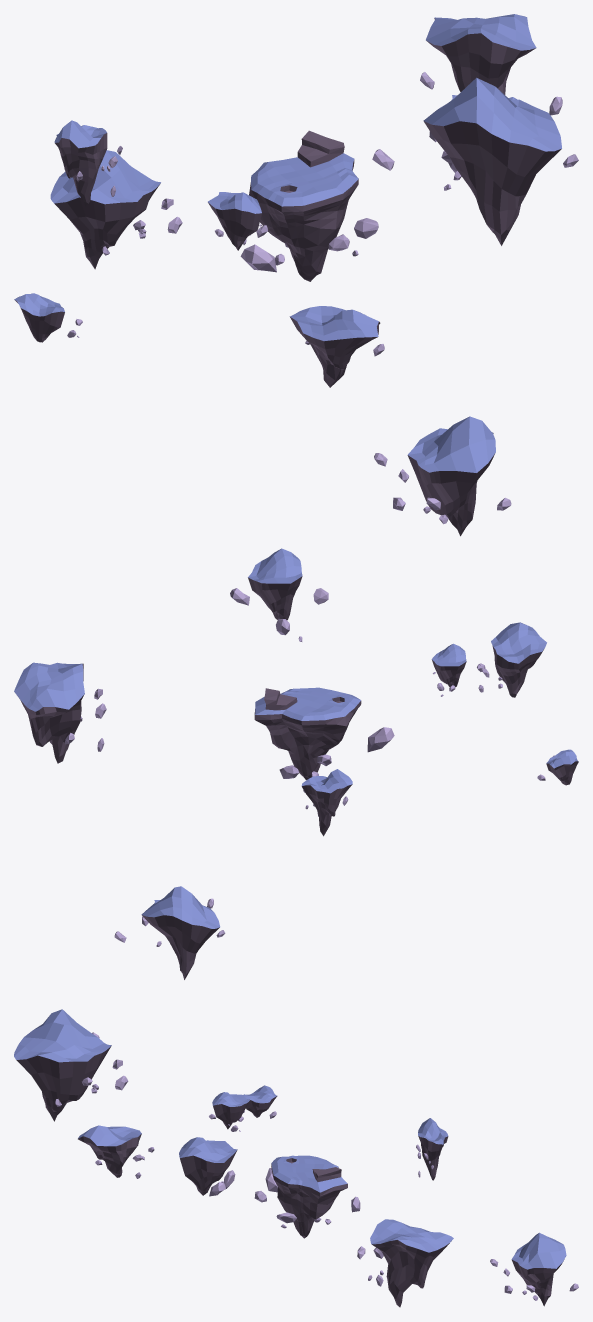
File: imaginationland.fbx
3 views of the same model, one above another, from view 1: azimuth 30°, elevation 25°; view 2: azimuth 150°, elevation 25°; view 3: azimuth 270°, elevation 25° (orthographic). The views are drawn at different scales.
Parts seen in each view (by area): view 1: Plane005, Plane001, Plane009, Plane008, Plane003, Plane007, Plane002, Plane006, GeoSphere004; view 2: Plane005, Plane001, Plane008, Plane009, Plane004, Plane003, Plane007, Plane002, Plane006; view 3: Plane005, Plane001, Plane008, Plane009, Plane004, Plane003, Plane007, Plane002, Plane006.
Part boxes in pixels (x1,y1,x2,y2): Plane005: [423, 77, 561, 245]; Plane001: [249, 130, 358, 281]; Plane009: [50, 150, 160, 269]; Plane008: [426, 14, 536, 94]; Plane003: [289, 306, 380, 387]; Plane007: [54, 120, 107, 206]; Plane002: [208, 192, 261, 250]; Plane006: [14, 293, 64, 342]; GeoSphere004: [240, 244, 276, 272]; Plane005: [407, 416, 495, 536]; Plane001: [254, 687, 361, 779]; Plane008: [14, 662, 84, 763]; Plane009: [141, 886, 220, 979]; Plane004: [248, 548, 302, 620]; Plane003: [491, 622, 546, 697]; Plane007: [301, 769, 352, 836]; Plane002: [431, 643, 466, 687]; Plane006: [546, 749, 578, 785]; Plane005: [14, 1009, 111, 1121]; Plane001: [271, 1155, 347, 1238]; Plane008: [370, 1219, 453, 1307]; Plane009: [511, 1232, 566, 1306]; Plane004: [179, 1137, 237, 1195]; Plane003: [78, 1125, 141, 1177]; Plane007: [418, 1118, 448, 1180]; Plane002: [212, 1092, 249, 1129]; Plane006: [243, 1085, 277, 1117].
Size of the model in its own units: 46821 by 33870 by 58220.
